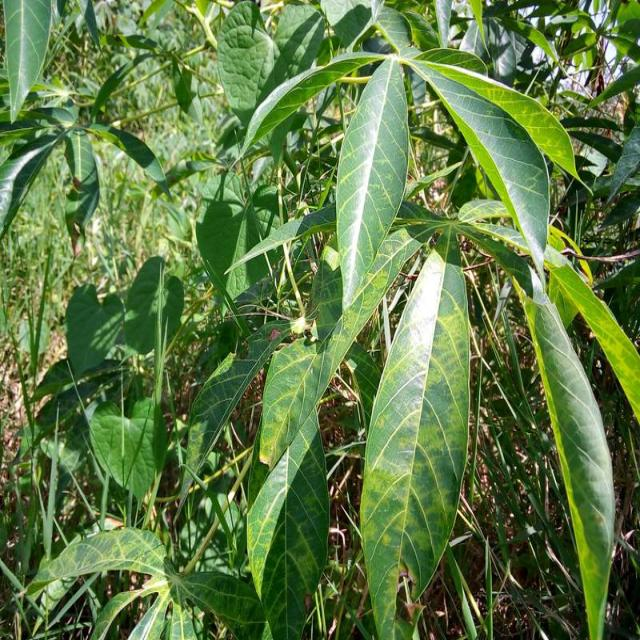cassava leaf: (358, 244, 471, 638), (521, 282, 615, 636), (244, 408, 330, 638), (334, 54, 409, 312)
